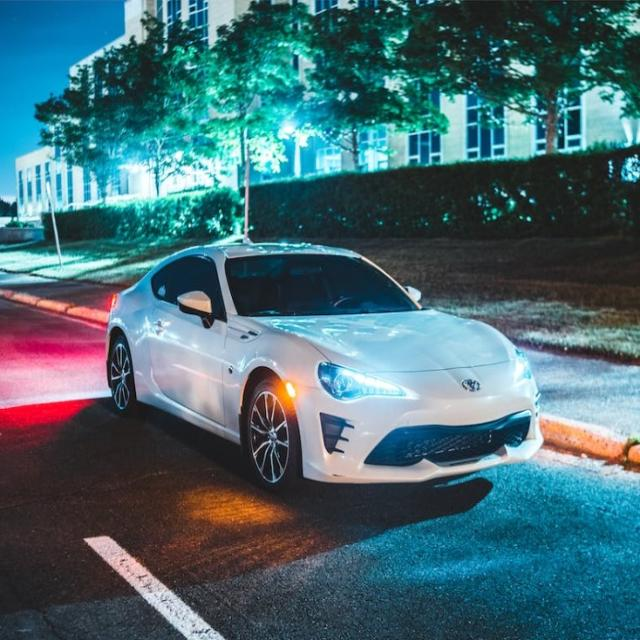car: (105, 239, 546, 495)
